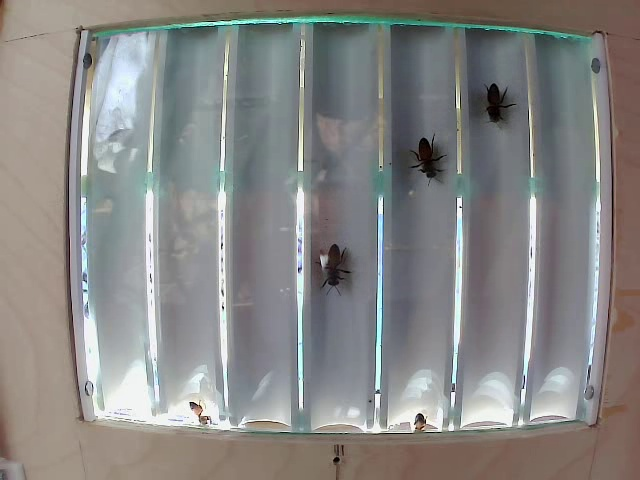bee: (314, 241, 356, 307), (475, 74, 514, 127), (411, 125, 438, 187)
